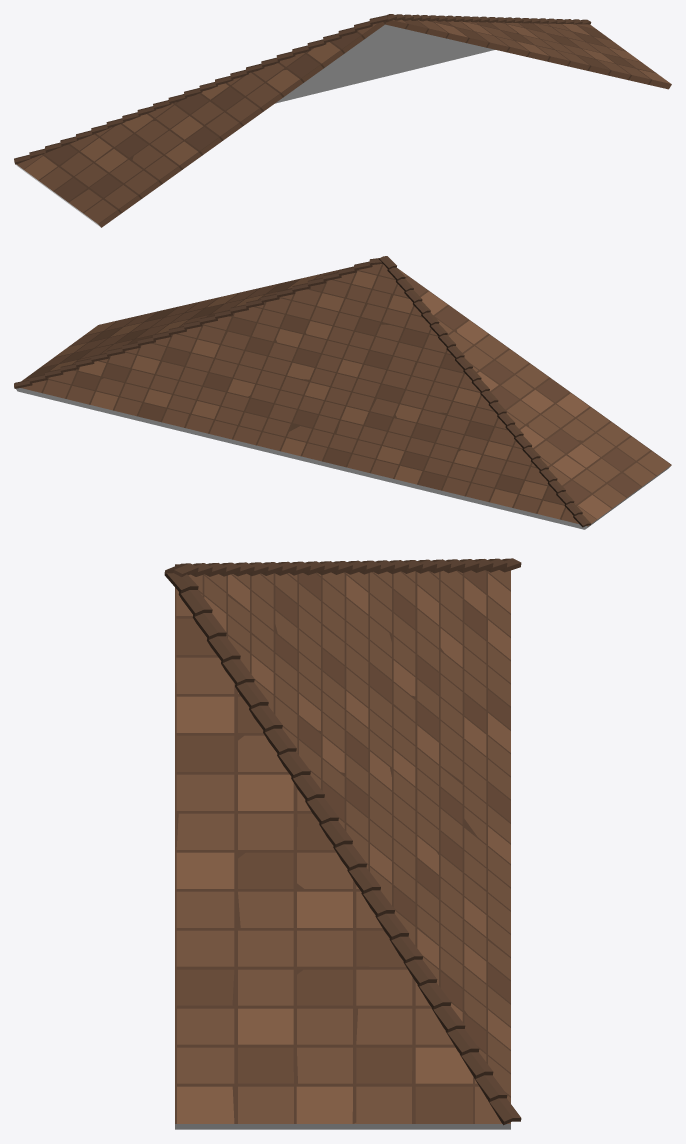
File: Roof5_C9_02.fbx
3 views of the same model, one above another, from view 1: azimuth 30°, elevation 25°; view 2: azimuth 150°, elevation 25°; view 3: azimuth 270°, elevation 25° (orthographic). The views are drawn at different scales.
Visible parts, largest first — view 1: Roof5_C9_02; view 2: Roof5_C9_02; view 3: Roof5_C9_02.
Part boxes in pixels (box(x1,y1,x2,y2)): Roof5_C9_02: box(14, 14, 671, 227); Roof5_C9_02: box(14, 256, 671, 529); Roof5_C9_02: box(164, 558, 521, 1129).
Bounding box in the file's own units: 1111 × 262 × 298.
